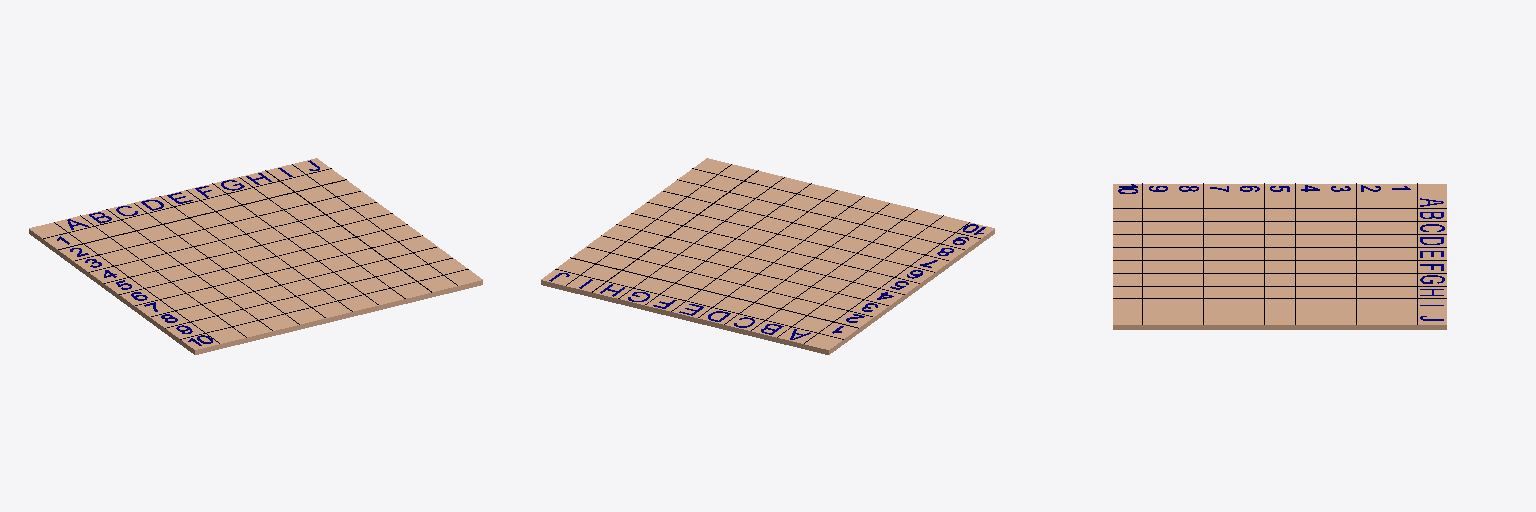
The model's file is Baord_Opp.obj.
The picture shows the model from 3 angles: view 1: azimuth 30°, elevation 25°; view 2: azimuth 150°, elevation 25°; view 3: azimuth 270°, elevation 25°; orthographic projection.
Parts seen in each view (by area): view 1: BASE; view 2: BASE; view 3: BASE.
Boxes of the visible parts, x1=… form: BASE: x1=29, y1=158, x2=482, y2=354; BASE: x1=541, y1=158, x2=994, y2=354; BASE: x1=1113, y1=183, x2=1446, y2=329.
Bounding box in the file's own units: 60 × 1.28 × 60.